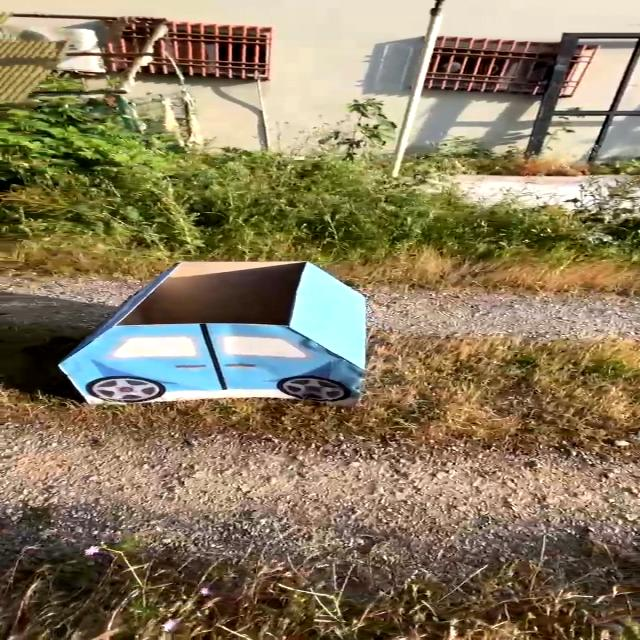blue_car: (0, 226, 436, 452)
